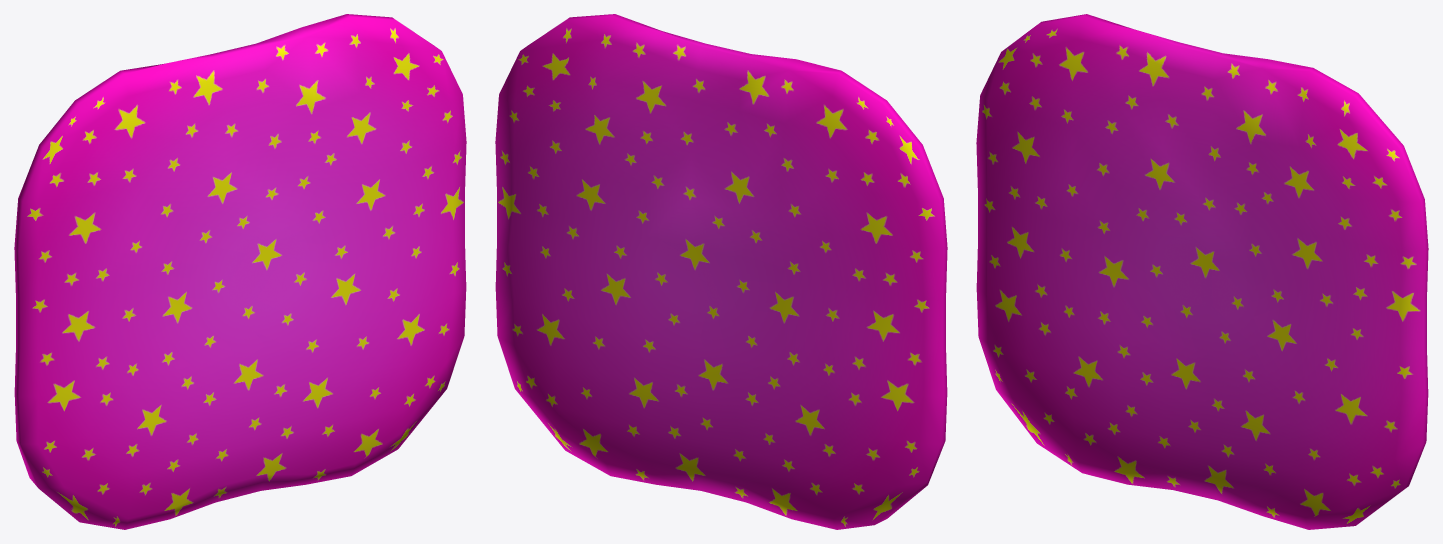
File: SM_Wall.glb
3 renders of one model, left to right at view 1: azimuth 30°, elevation 25°; view 2: azimuth 150°, elevation 25°; view 3: azimuth 330°, elevation 25°, orthographic.
Visible parts, largest first — view 1: Wall; view 2: Wall; view 3: Wall.
Part boxes in pixels (box(x1,y1,x2,y2)): Wall: box(14, 14, 466, 529); Wall: box(495, 14, 947, 529); Wall: box(976, 14, 1428, 529).
Size of what is drawn, in the model's own units: 96.13 by 94.17 by 9.83.
1 material, 1 textured.
